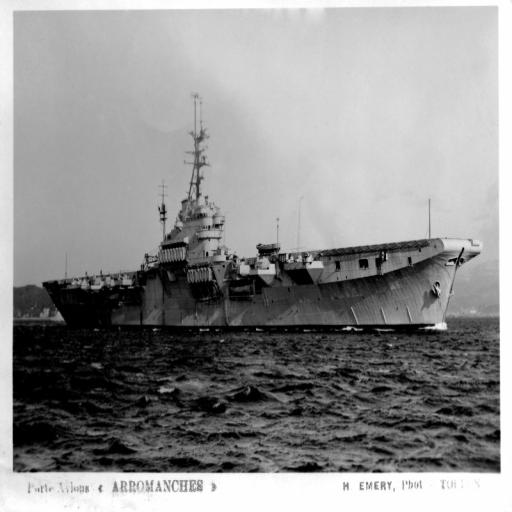Portanaves: (38, 71, 484, 333)
